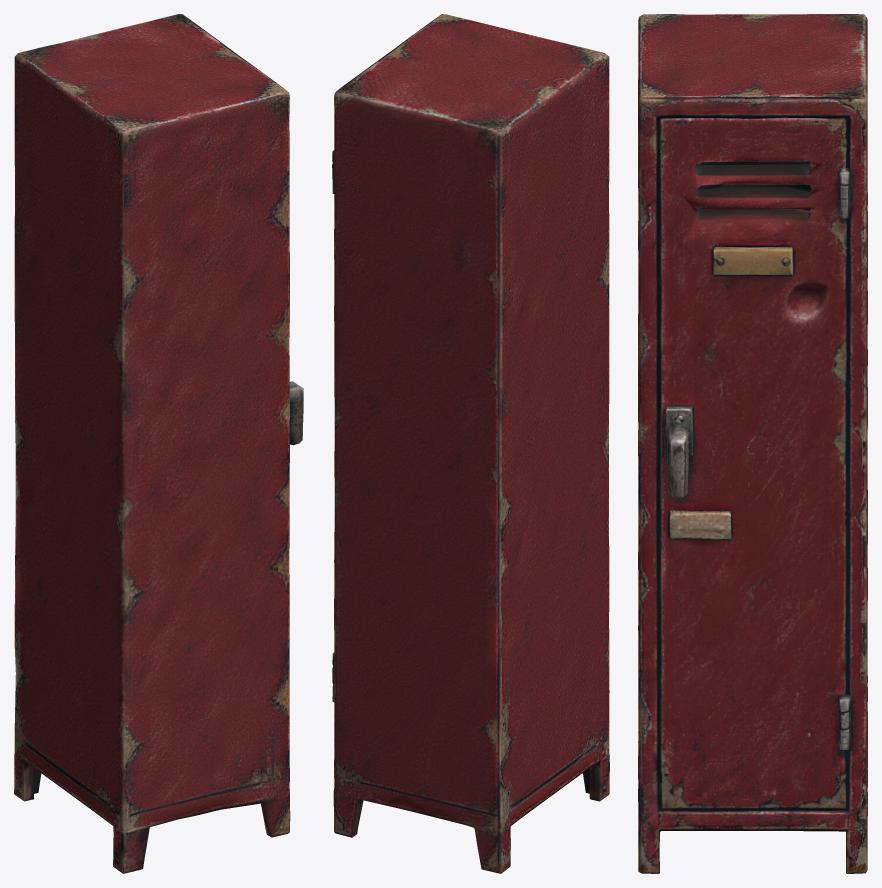
File: SchoolLocker5.fbx
The picture shows the model from 3 angles, left to right: view 1: azimuth 30°, elevation 25°; view 2: azimuth 150°, elevation 25°; view 3: azimuth 270°, elevation 25°; orthographic projection. The views are drawn at different scales.
Visible parts, largest first — view 1: tripo_node_b90c85d1-665b-4e4f-8e77-eaa630aa17ab; view 2: tripo_node_b90c85d1-665b-4e4f-8e77-eaa630aa17ab; view 3: tripo_node_b90c85d1-665b-4e4f-8e77-eaa630aa17ab.
Boxes of the visible parts, <box> form: tripo_node_b90c85d1-665b-4e4f-8e77-eaa630aa17ab: <box>14,14,303,873</box>; tripo_node_b90c85d1-665b-4e4f-8e77-eaa630aa17ab: <box>332,14,609,873</box>; tripo_node_b90c85d1-665b-4e4f-8e77-eaa630aa17ab: <box>638,14,867,873</box>.
Size of the model in its own units: 27.99 by 100 by 26.82.
1 material, 1 textured.
